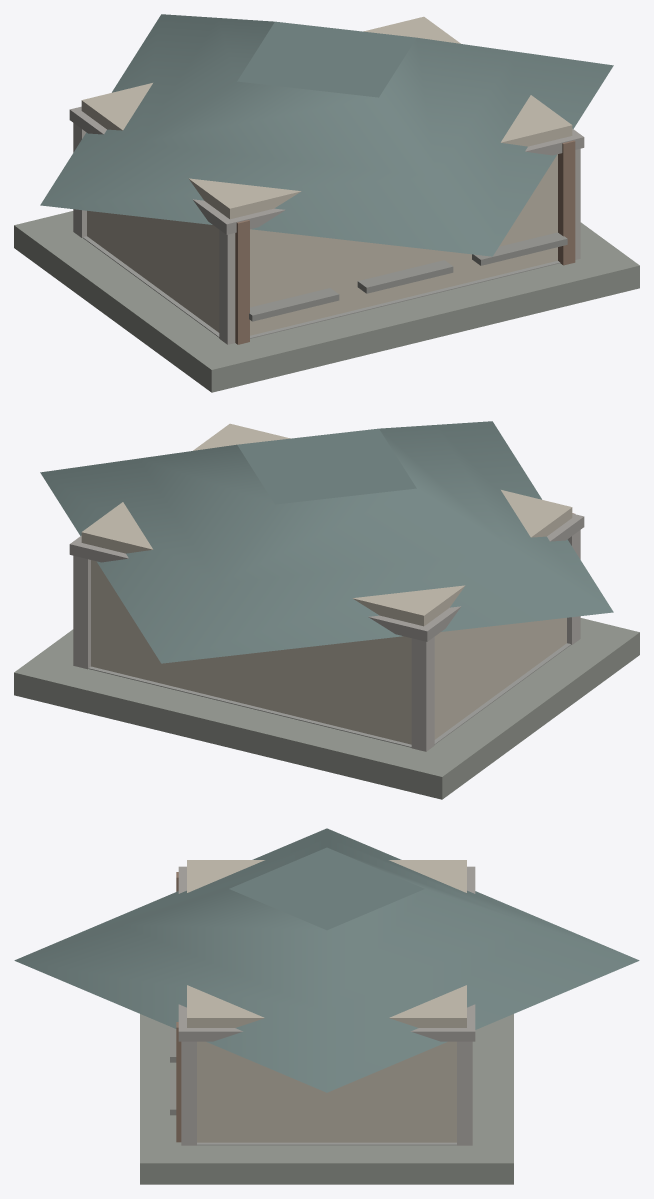
The picture shows the model from 3 angles, top to bottom: view 1: azimuth 30°, elevation 25°; view 2: azimuth 150°, elevation 25°; view 3: azimuth 270°, elevation 25°; orthographic projection. The views are drawn at different scales.
Visible parts, largest first — view 1: Visual; view 2: Visual; view 3: Visual.
Boxes of the visible parts, x1=… form: Visual: x1=14, y1=14, x2=639, y2=392; Visual: x1=14, y1=421, x2=639, y2=799; Visual: x1=14, y1=828, x2=639, y2=1184.
Size of the model in its own units: 34.84 by 12.1 by 34.84.
